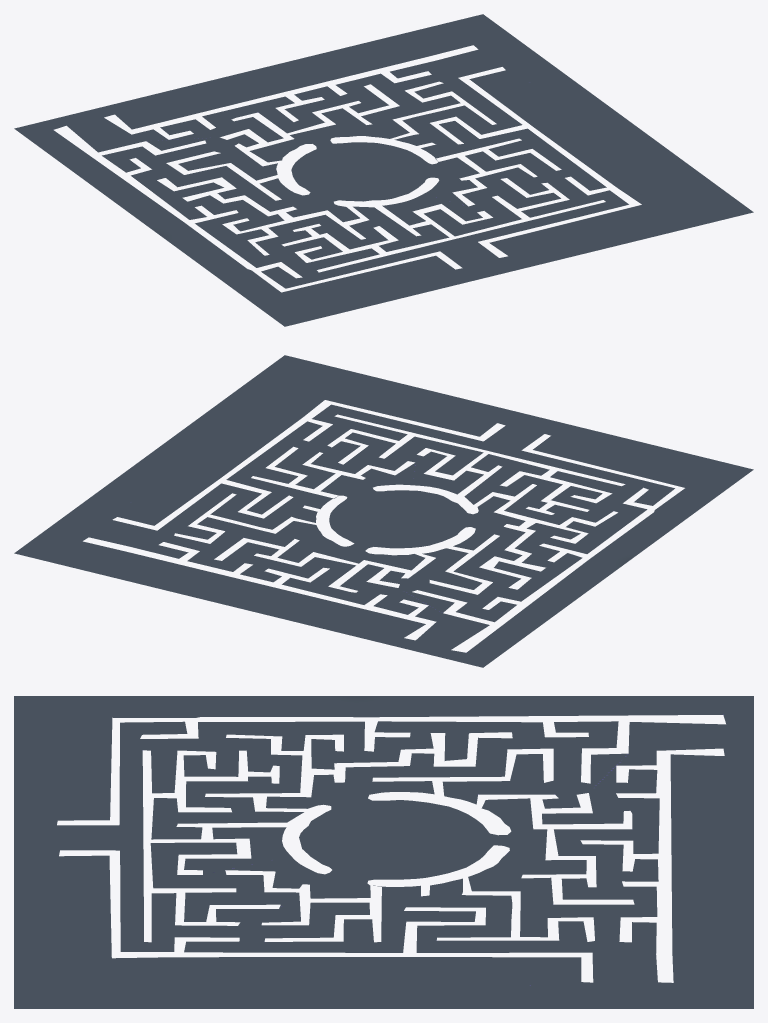
File: malla2.glb
3 renders of one model, top to bottom at view 1: azimuth 30°, elevation 25°; view 2: azimuth 150°, elevation 25°; view 3: azimuth 270°, elevation 25°, orthographic. The views are drawn at different scales.
Visible parts, largest first — view 1: Plane; view 2: Plane; view 3: Plane.
Boxes of the visible parts, x1,y1,x2,y2 form: Plane: [14, 14, 753, 326]; Plane: [14, 355, 753, 667]; Plane: [14, 696, 753, 1008].
Bounding box in the file's own units: 19 × 0 × 19.
Materials: 1 (1 with a texture image).
